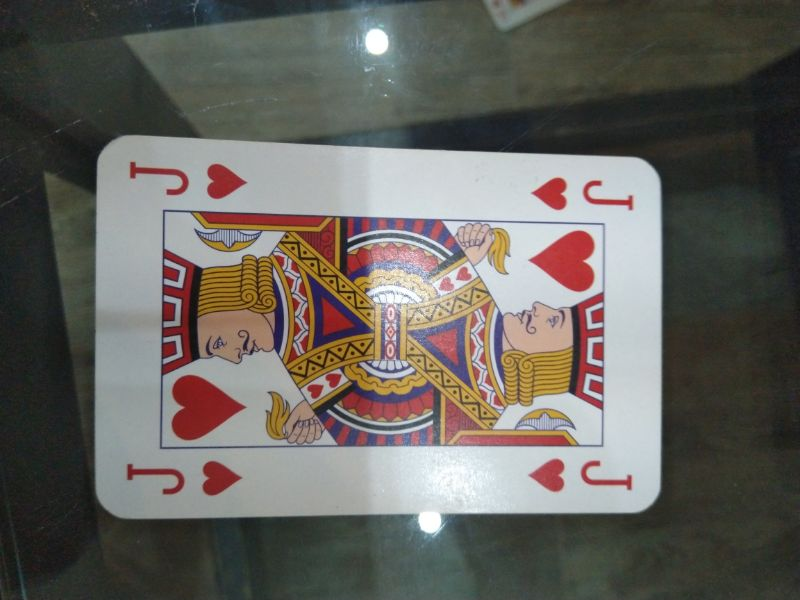Jh: (122, 151, 253, 207), (523, 448, 640, 501), (524, 166, 640, 219), (122, 458, 249, 500)
